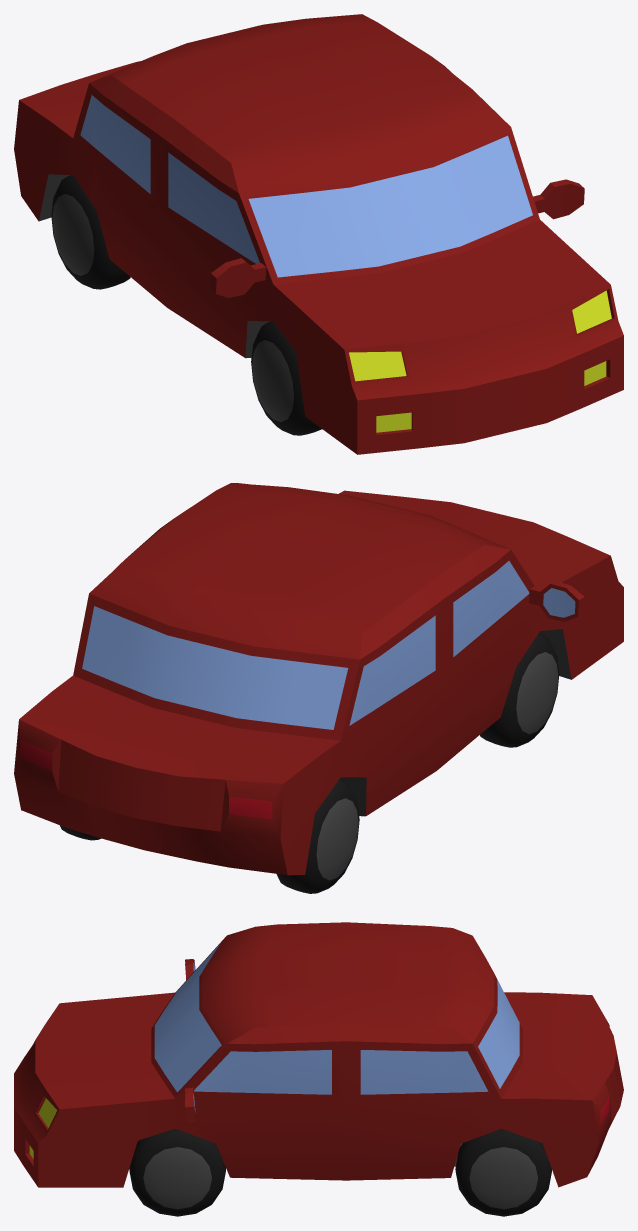
The model's file is car.fbx.
3 views of the same model, one above another, from view 1: azimuth 30°, elevation 25°; view 2: azimuth 150°, elevation 25°; view 3: azimuth 270°, elevation 25° (orthographic). The views are drawn at different scales.
Visible parts, largest first — view 1: Prop_ToyCar_01; view 2: Prop_ToyCar_01; view 3: Prop_ToyCar_01.
Boxes of the visible parts, box(x1,y1,x2,y2) form: Prop_ToyCar_01: box(14, 14, 623, 454); Prop_ToyCar_01: box(14, 483, 623, 893); Prop_ToyCar_01: box(14, 922, 623, 1216).
Size of the model in its own units: 23.63 by 41.55 by 15.13.
